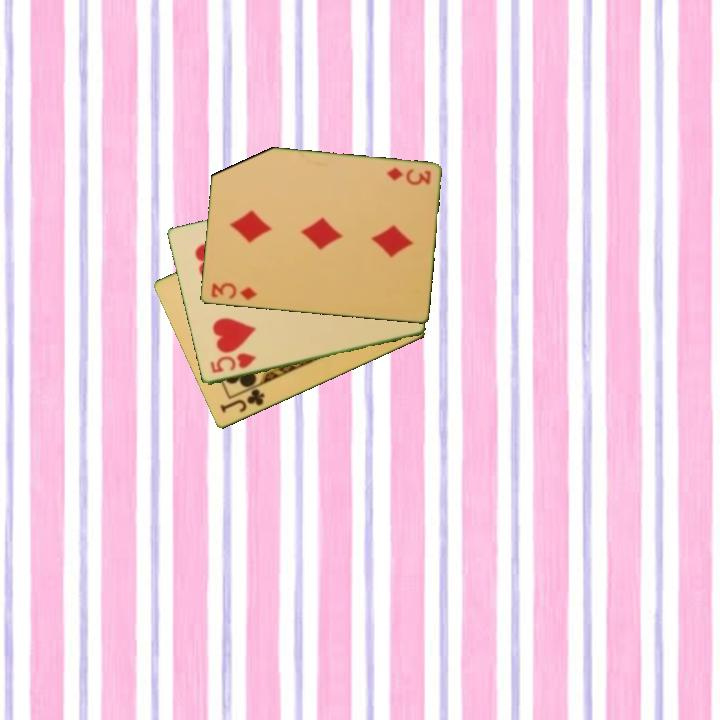3d: (208, 279, 260, 304), (383, 164, 433, 187)
5h: (206, 350, 259, 376)
Jc: (216, 385, 268, 416)
